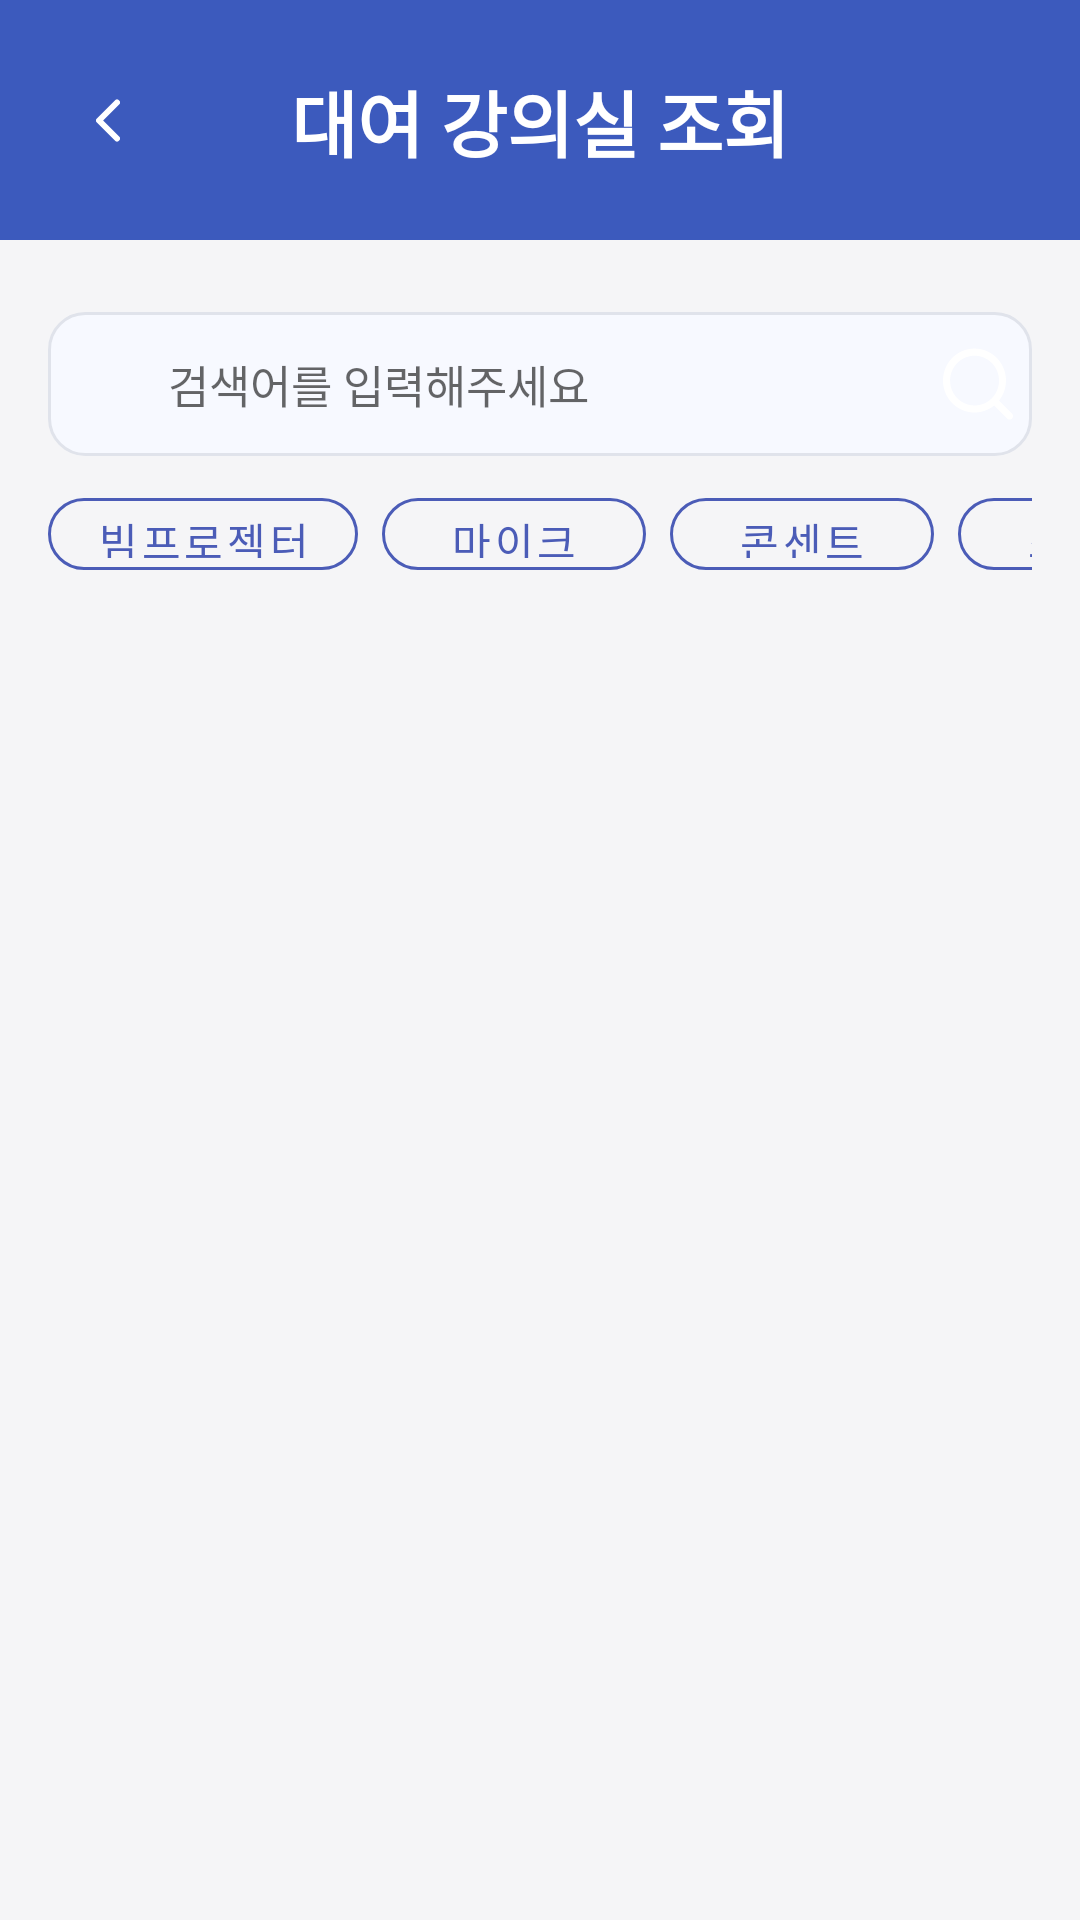

Icon click points for this 1080*1920 phone screenshot, format point (x, y):
뒤로가기: point (108, 120)
